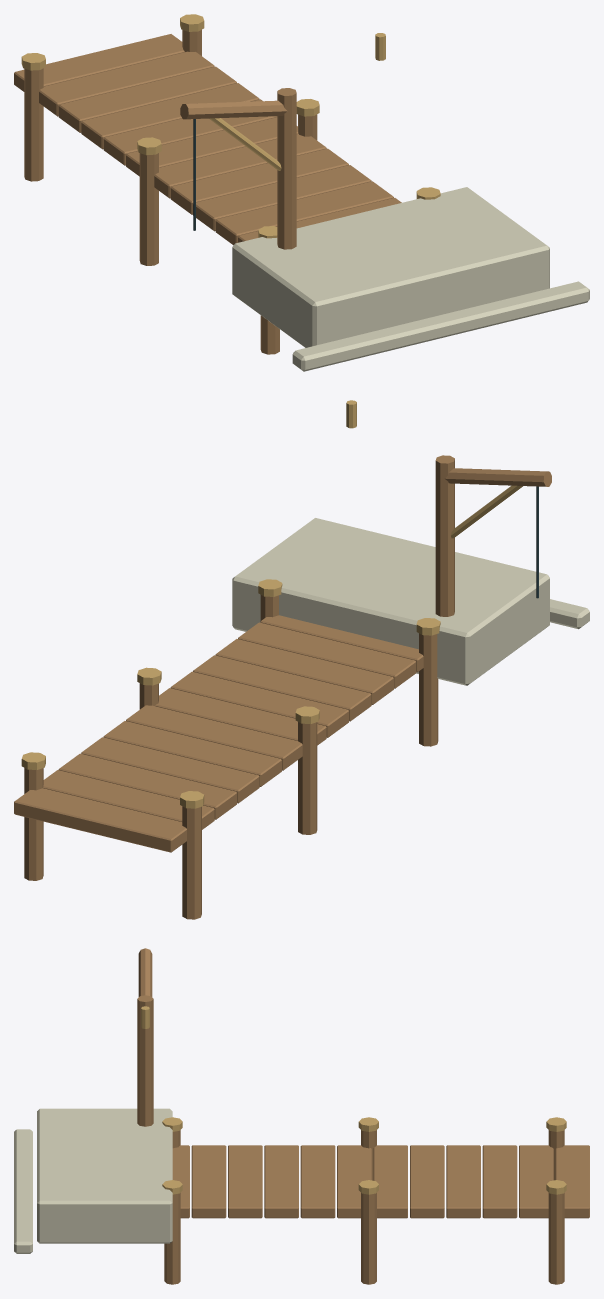
Rendered from level_08.glb.
3 renders of one model, top to bottom at view 1: azimuth 30°, elevation 25°; view 2: azimuth 150°, elevation 25°; view 3: azimuth 270°, elevation 25°, orthographic. The views are drawn at different scales.
Visible parts, largest first — view 1: dock — level 08; view 2: dock — level 08; view 3: dock — level 08.
Part boxes in pixels (x1,y1,x2,y2): dock — level 08: (14,14,589,371); dock — level 08: (14,400,589,919); dock — level 08: (14,948,589,1284).
Size of the model in its own units: 4.53 by 4.03 by 8.5.
